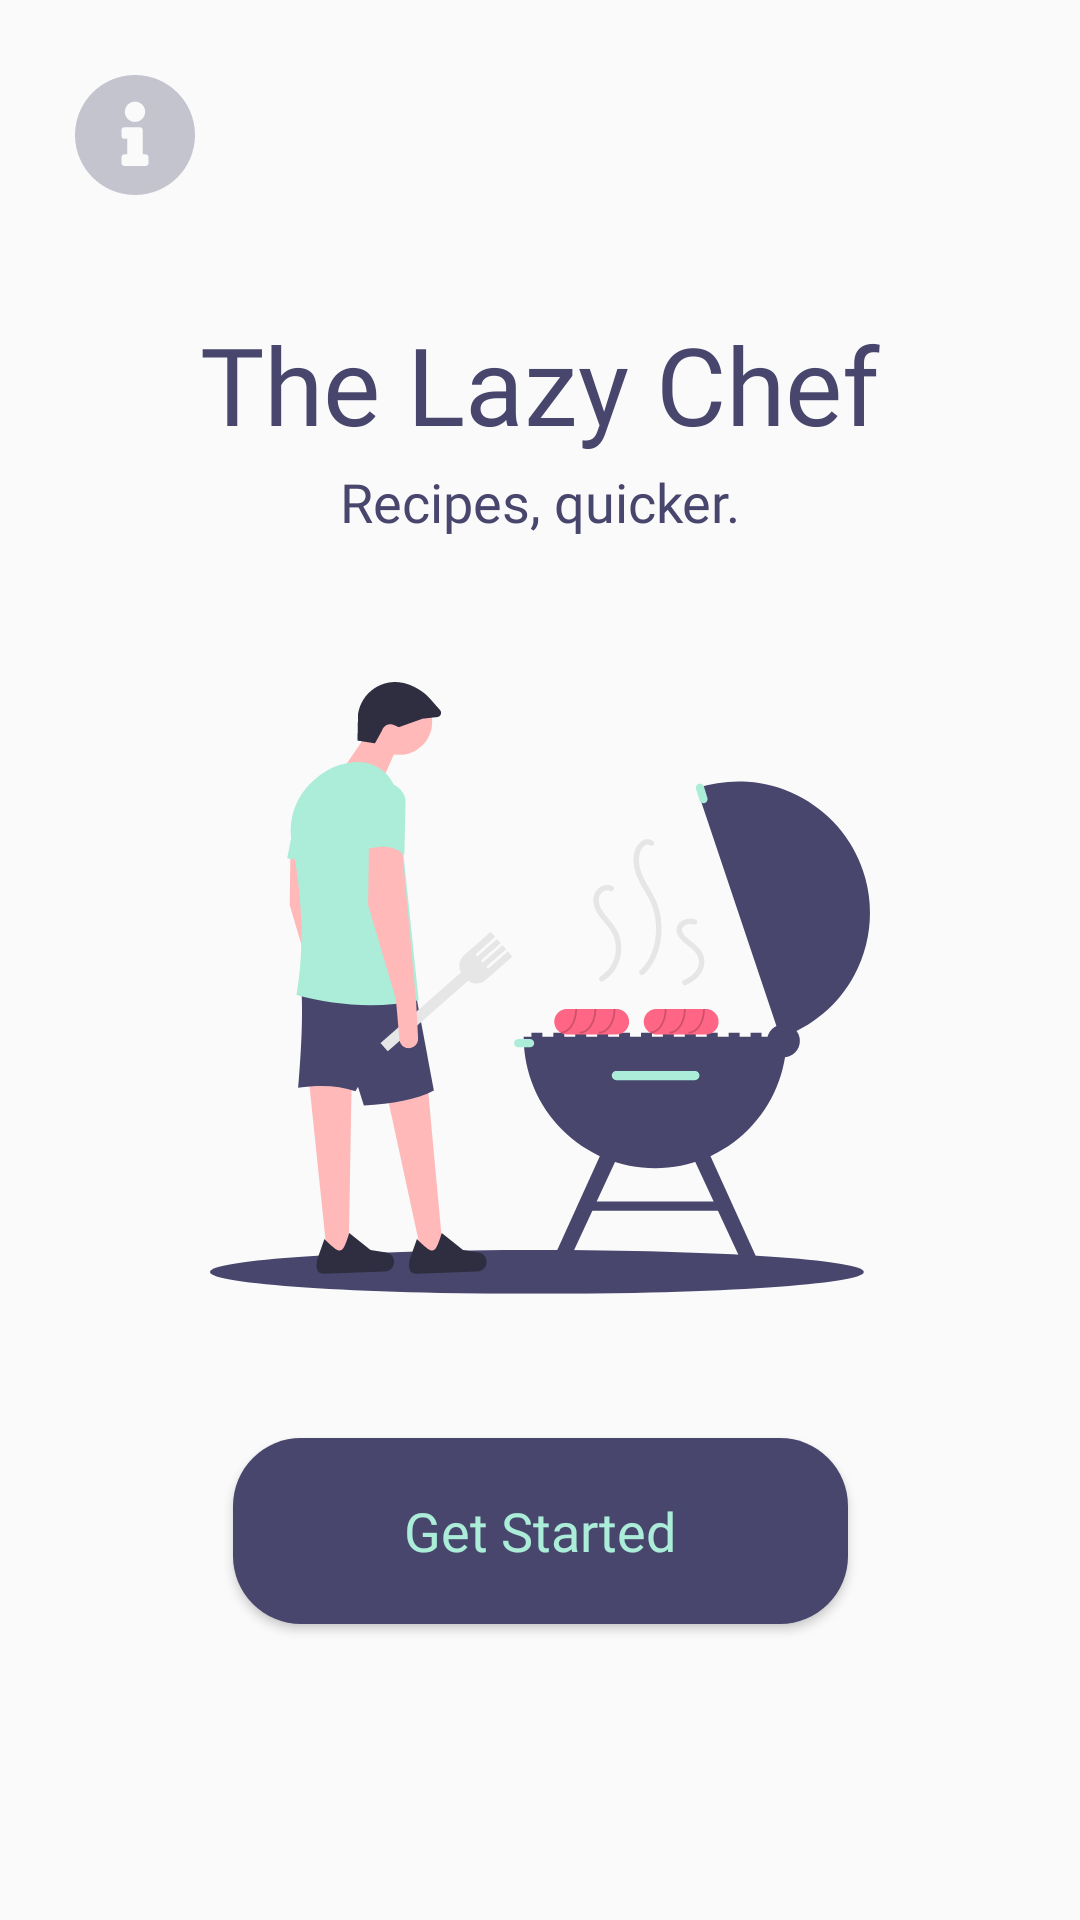

Point at icon controls on the screen. Image size 1080px×1920px, points as point (x, y).
info: point (135, 135)
